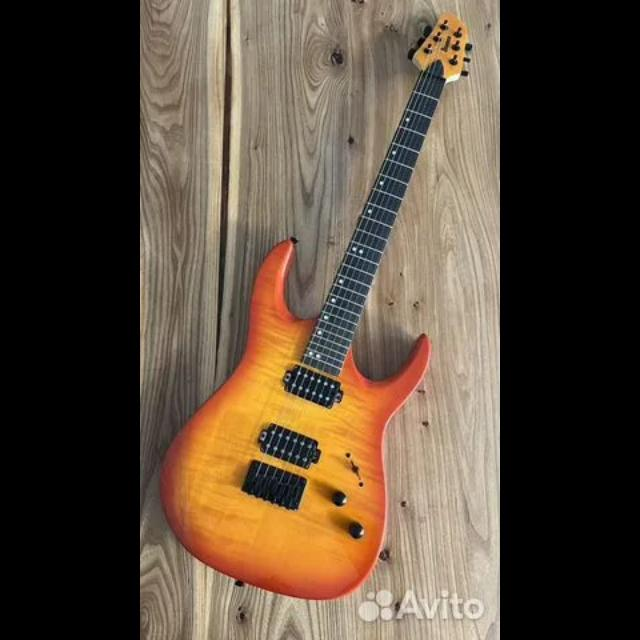Electric-Guitar: (158, 14, 472, 600)
